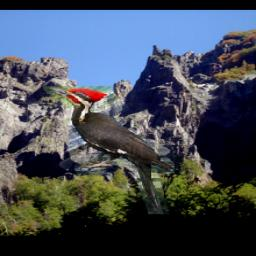Woodpecker: (44, 87, 176, 215)
